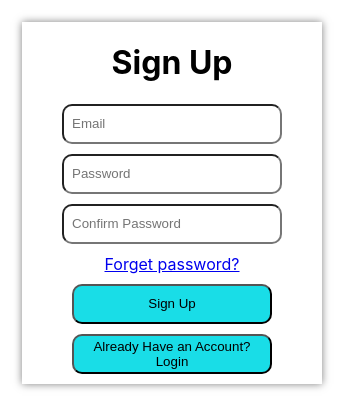
Test: SignUp Component › renders login form text after toggle
Click the button "Already Have an Account?Login".
click(172, 354)  # box [72,334,272,374]
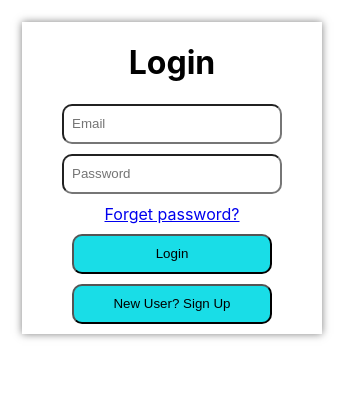
Result: the heading "Login" is shown at [129,43,215,82]
